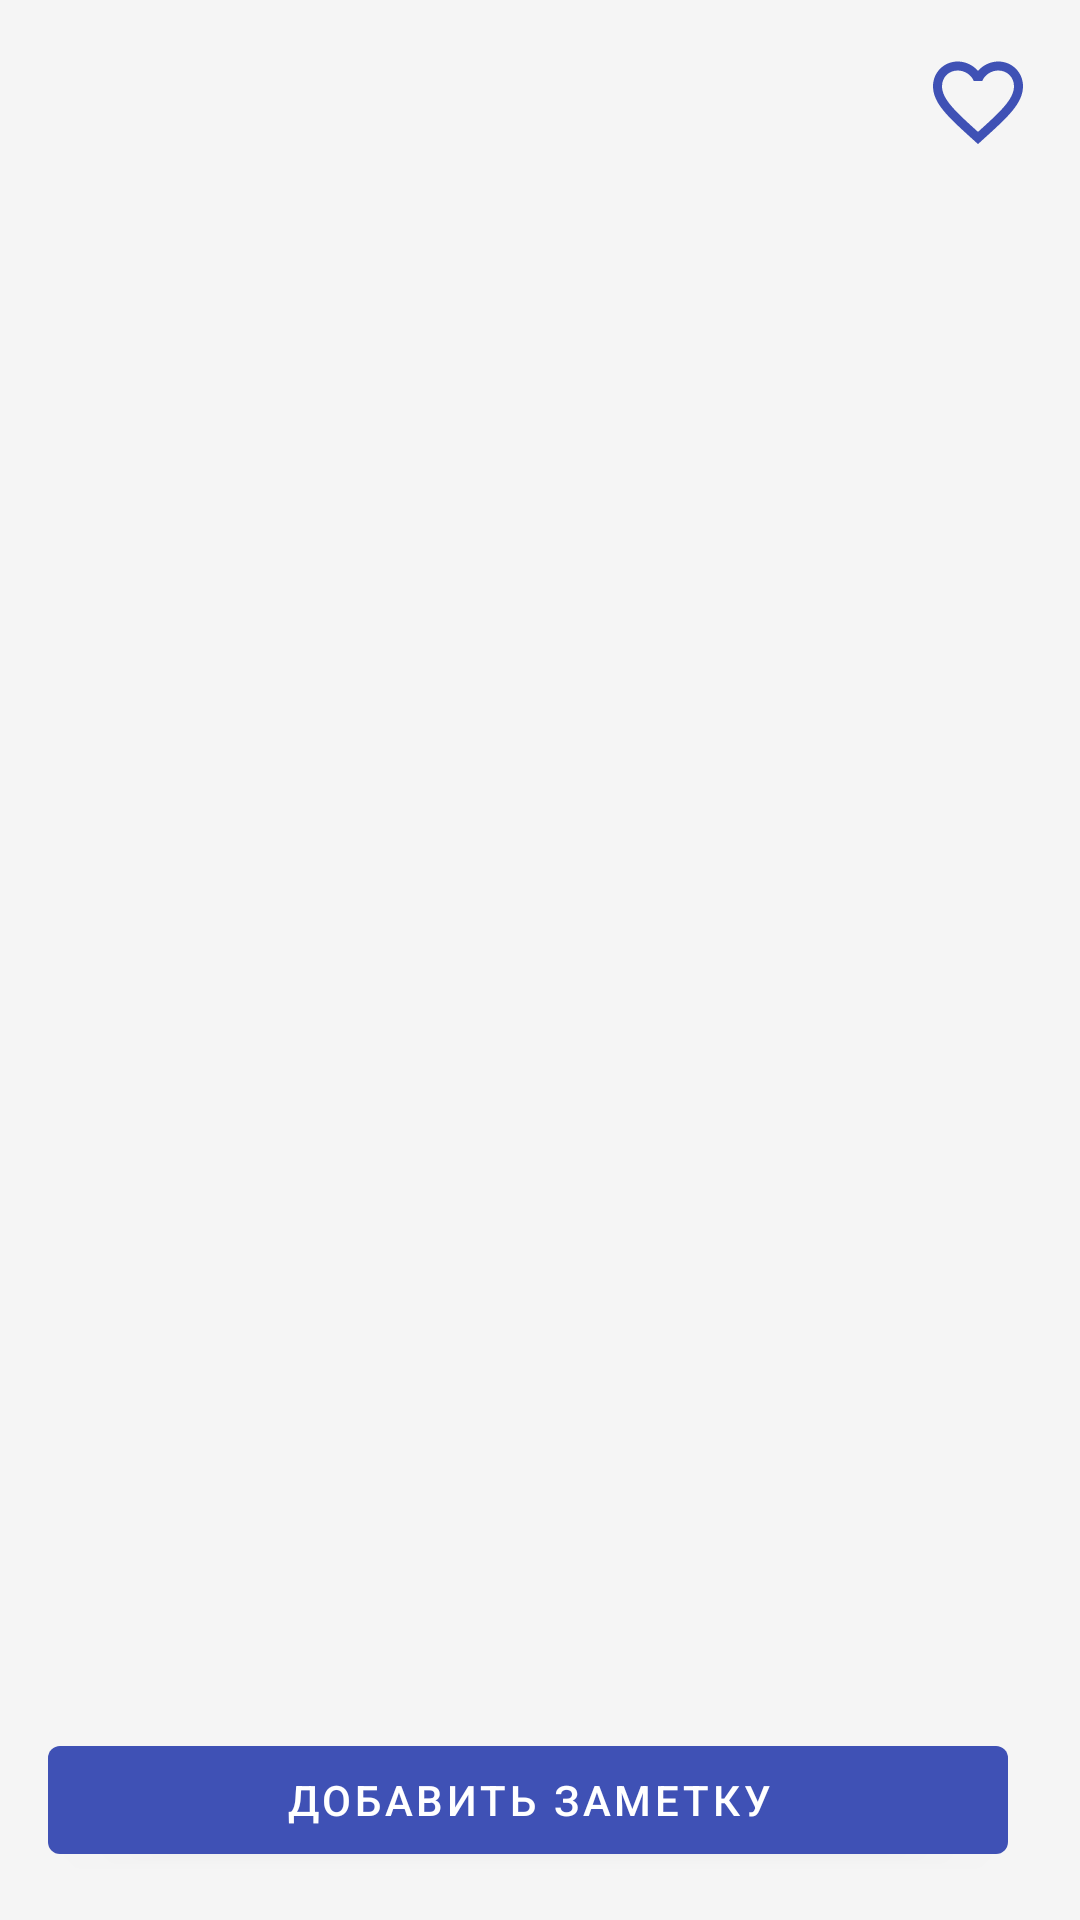

Screen size 1080 x 1920. Icon name, then its box in pixels as (x1=x1, y1=y1, x2=x2, y2=y2):
Управление закладками: (x1=933, y1=61, x2=1023, y2=144)
